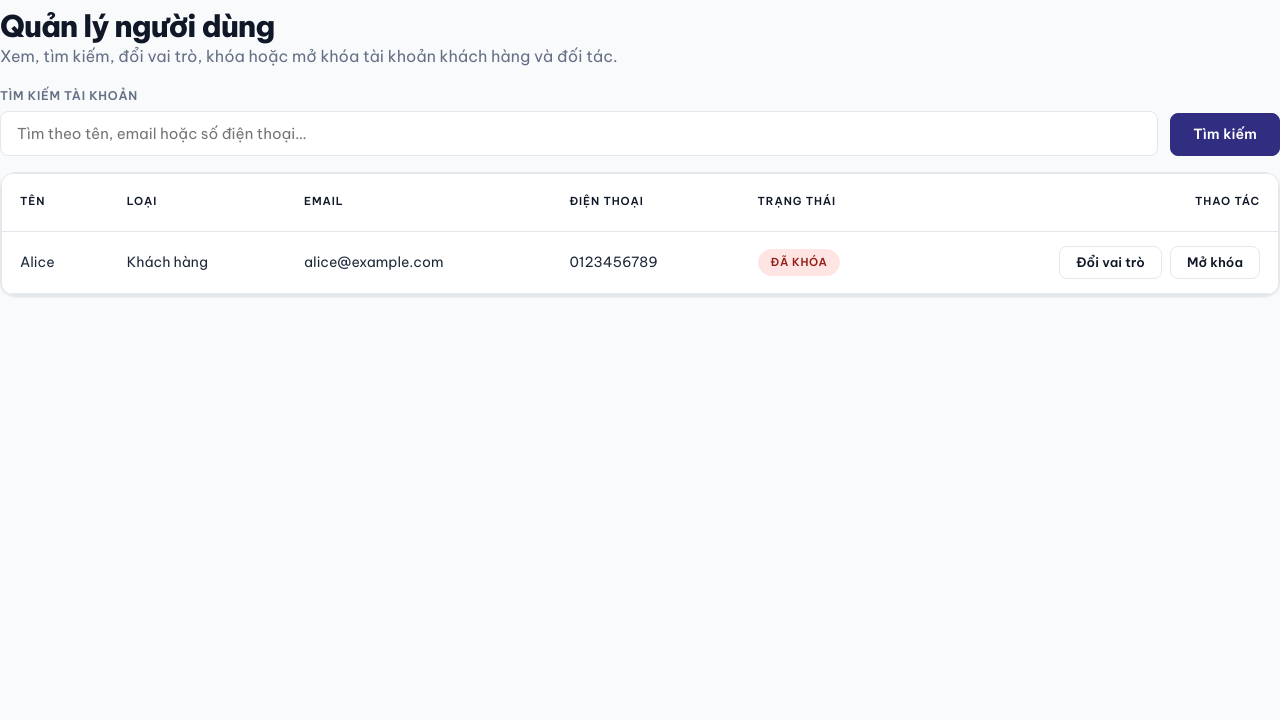
UsersPage › unlocks a locked account (Req 5.4)
The width and height of the screenshot is (1280, 720).
Expected: the text "Alice" is shown, [2,232,109,294]
Click the button with aria-label "mở khóa alice": (1215, 263) [1170,246,1260,279]
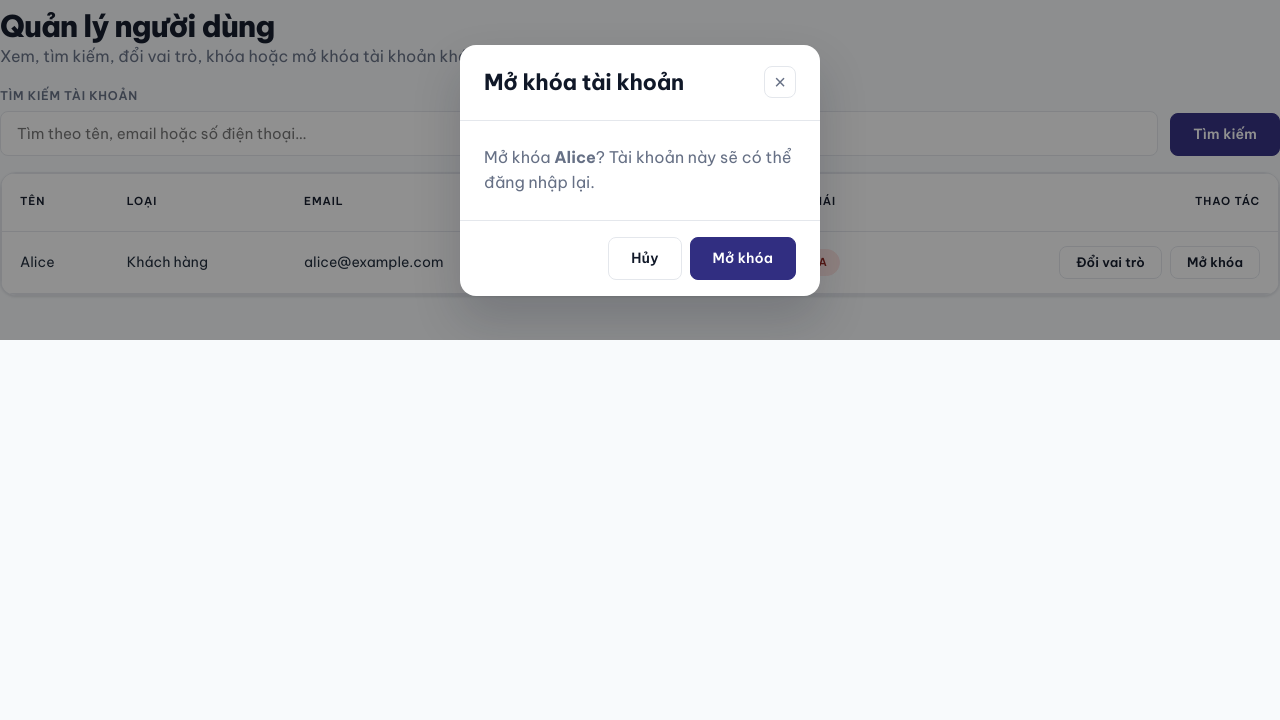
Click the button "Mở khóa": (743, 258) [690,237,796,280]
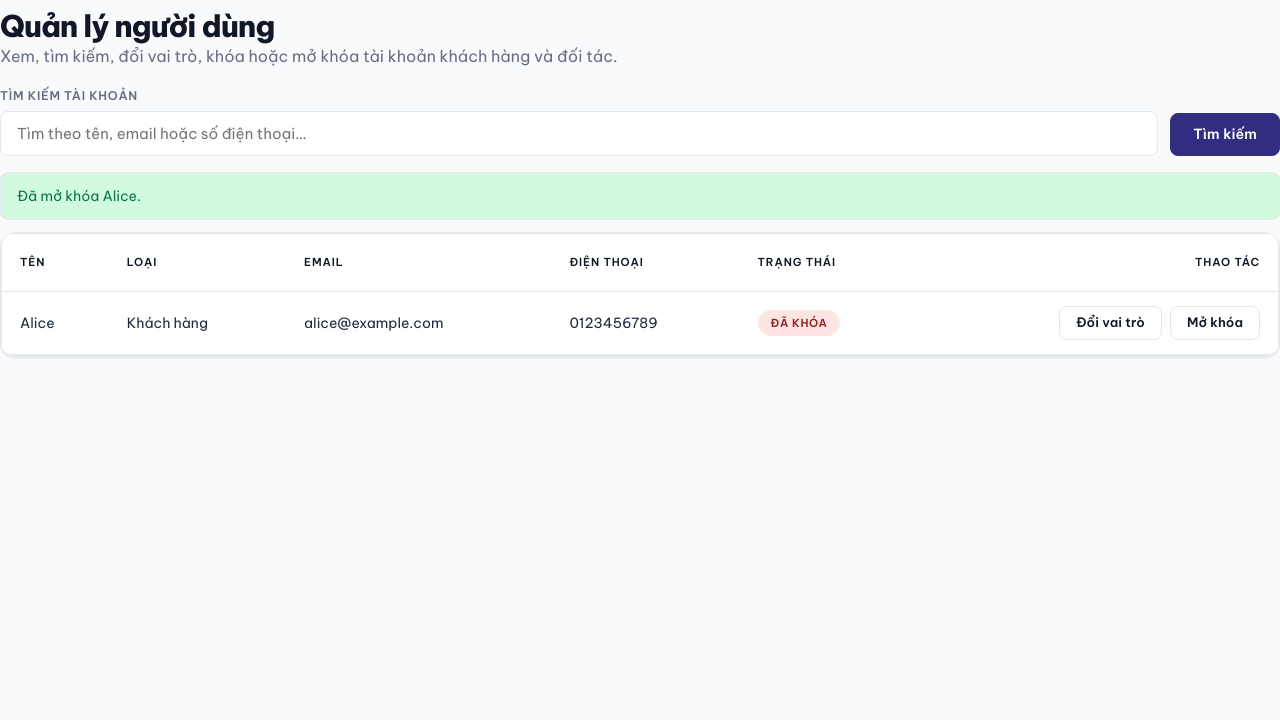
Now the text "Đã mở khóa Alice." is shown, box [0,172,1279,220]
